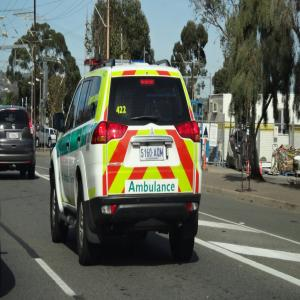Vehicle-registration-plate: (141, 144, 165, 162), (9, 133, 20, 141)
